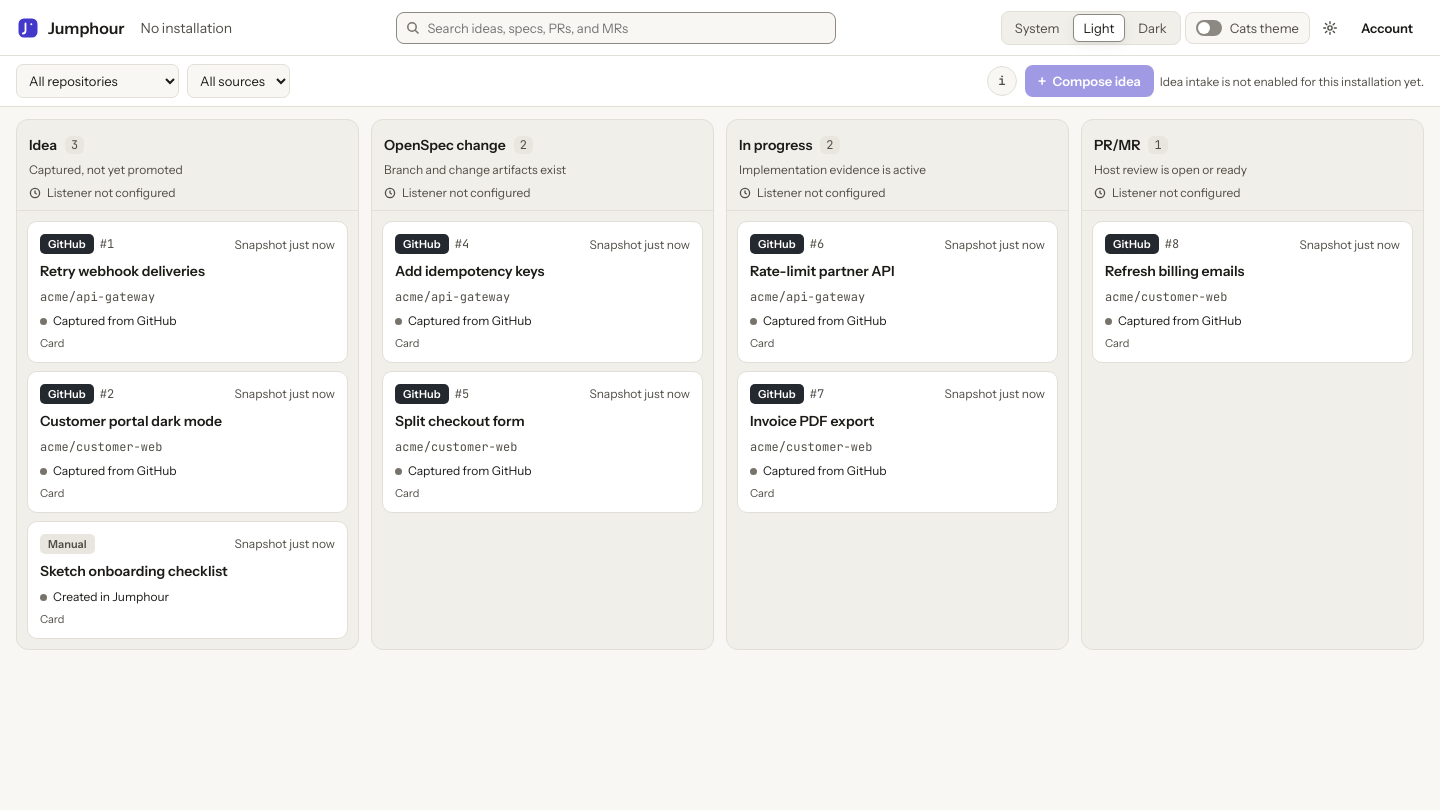
Test: BoardScreen › narrows every lane by the search field in the shell's search slot, and Reset filters restores every card
Step 1. Type "  IDEMPOTENCY " into the search field labelled "Search ideas, specs, PRs, and MRs" → point(616, 28), box 396,12 -> 836,44
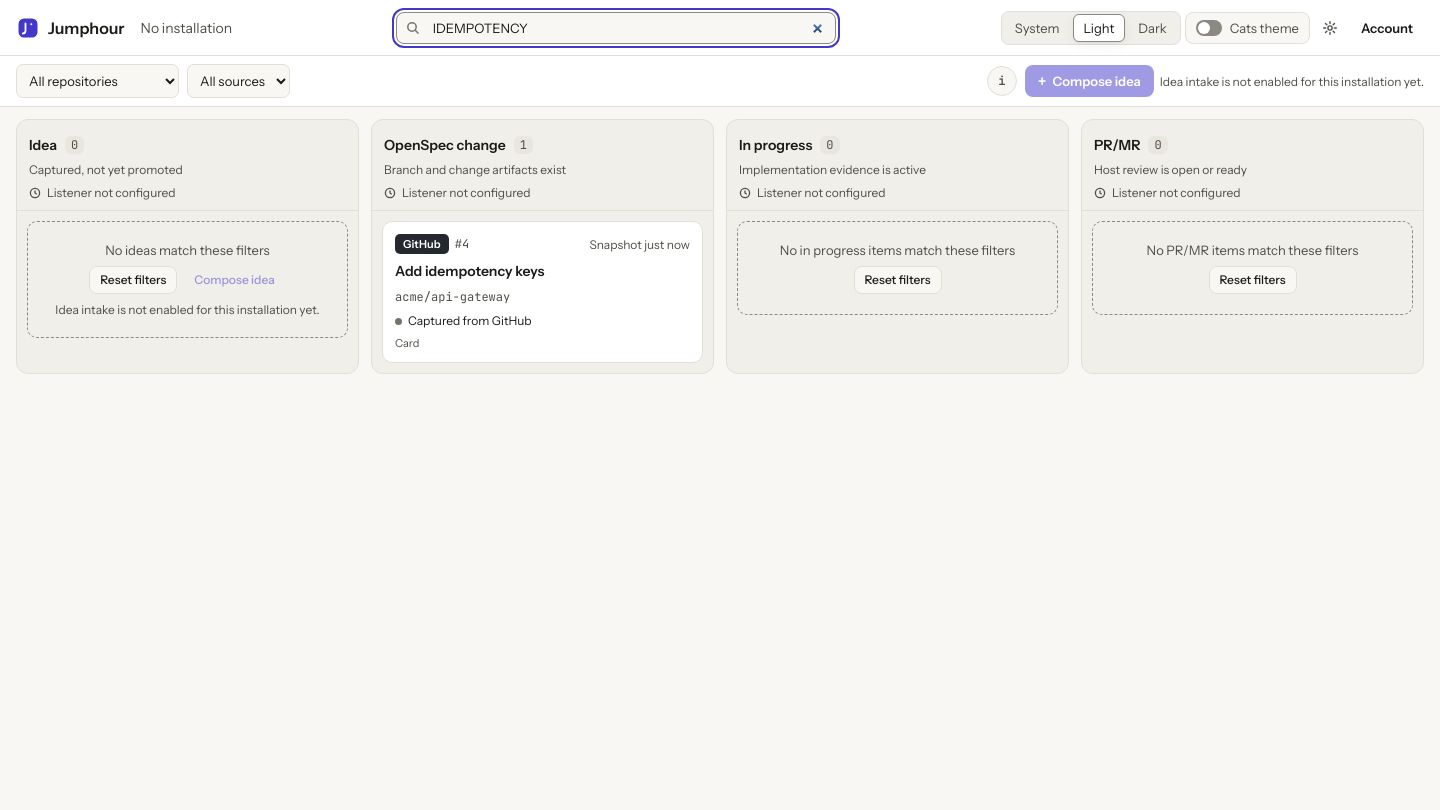
Step 2. Click the button "Reset filters" below "No ideas match these filters" → point(133, 280), box 89,266 -> 177,294
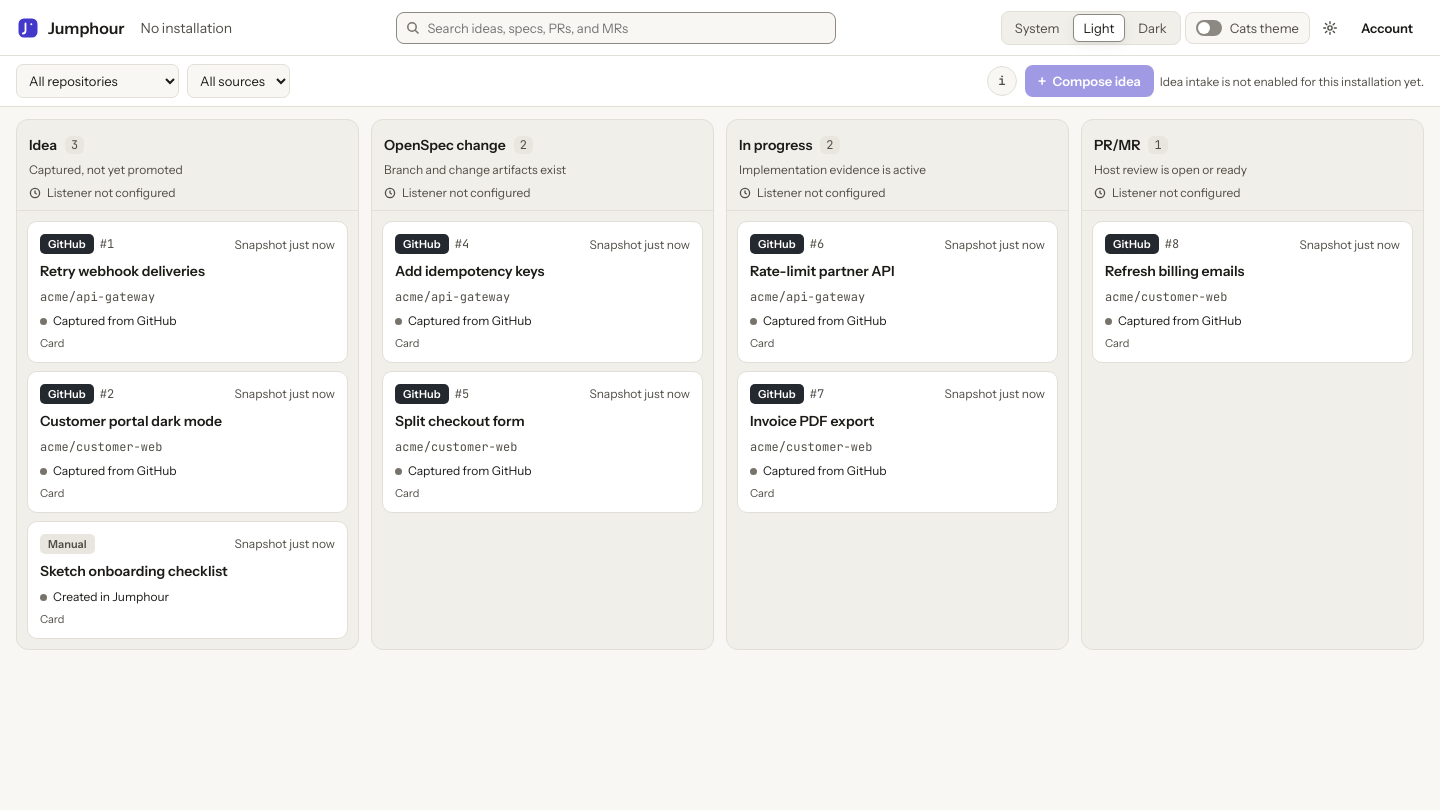
Expected: the search field is empty, 396,12 -> 836,44
